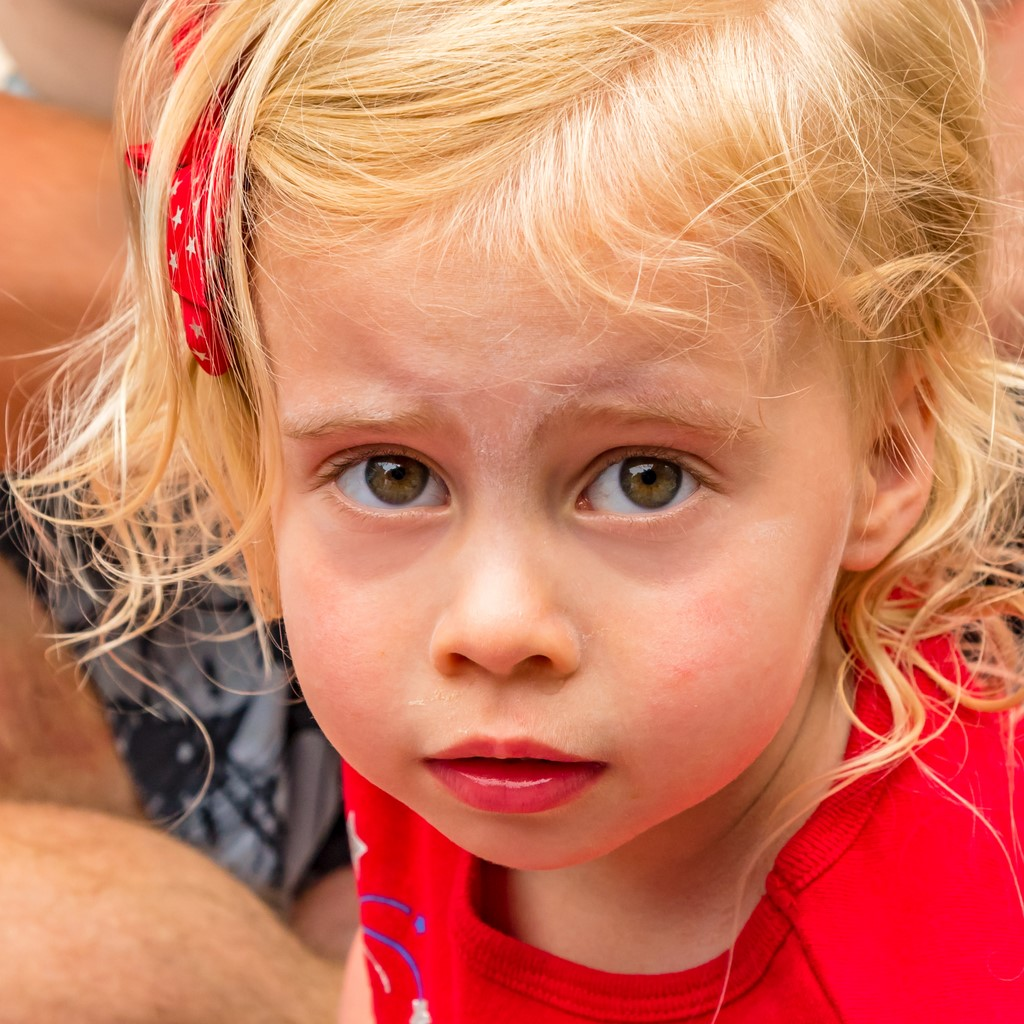sin_mascara: (243, 137, 865, 868)
